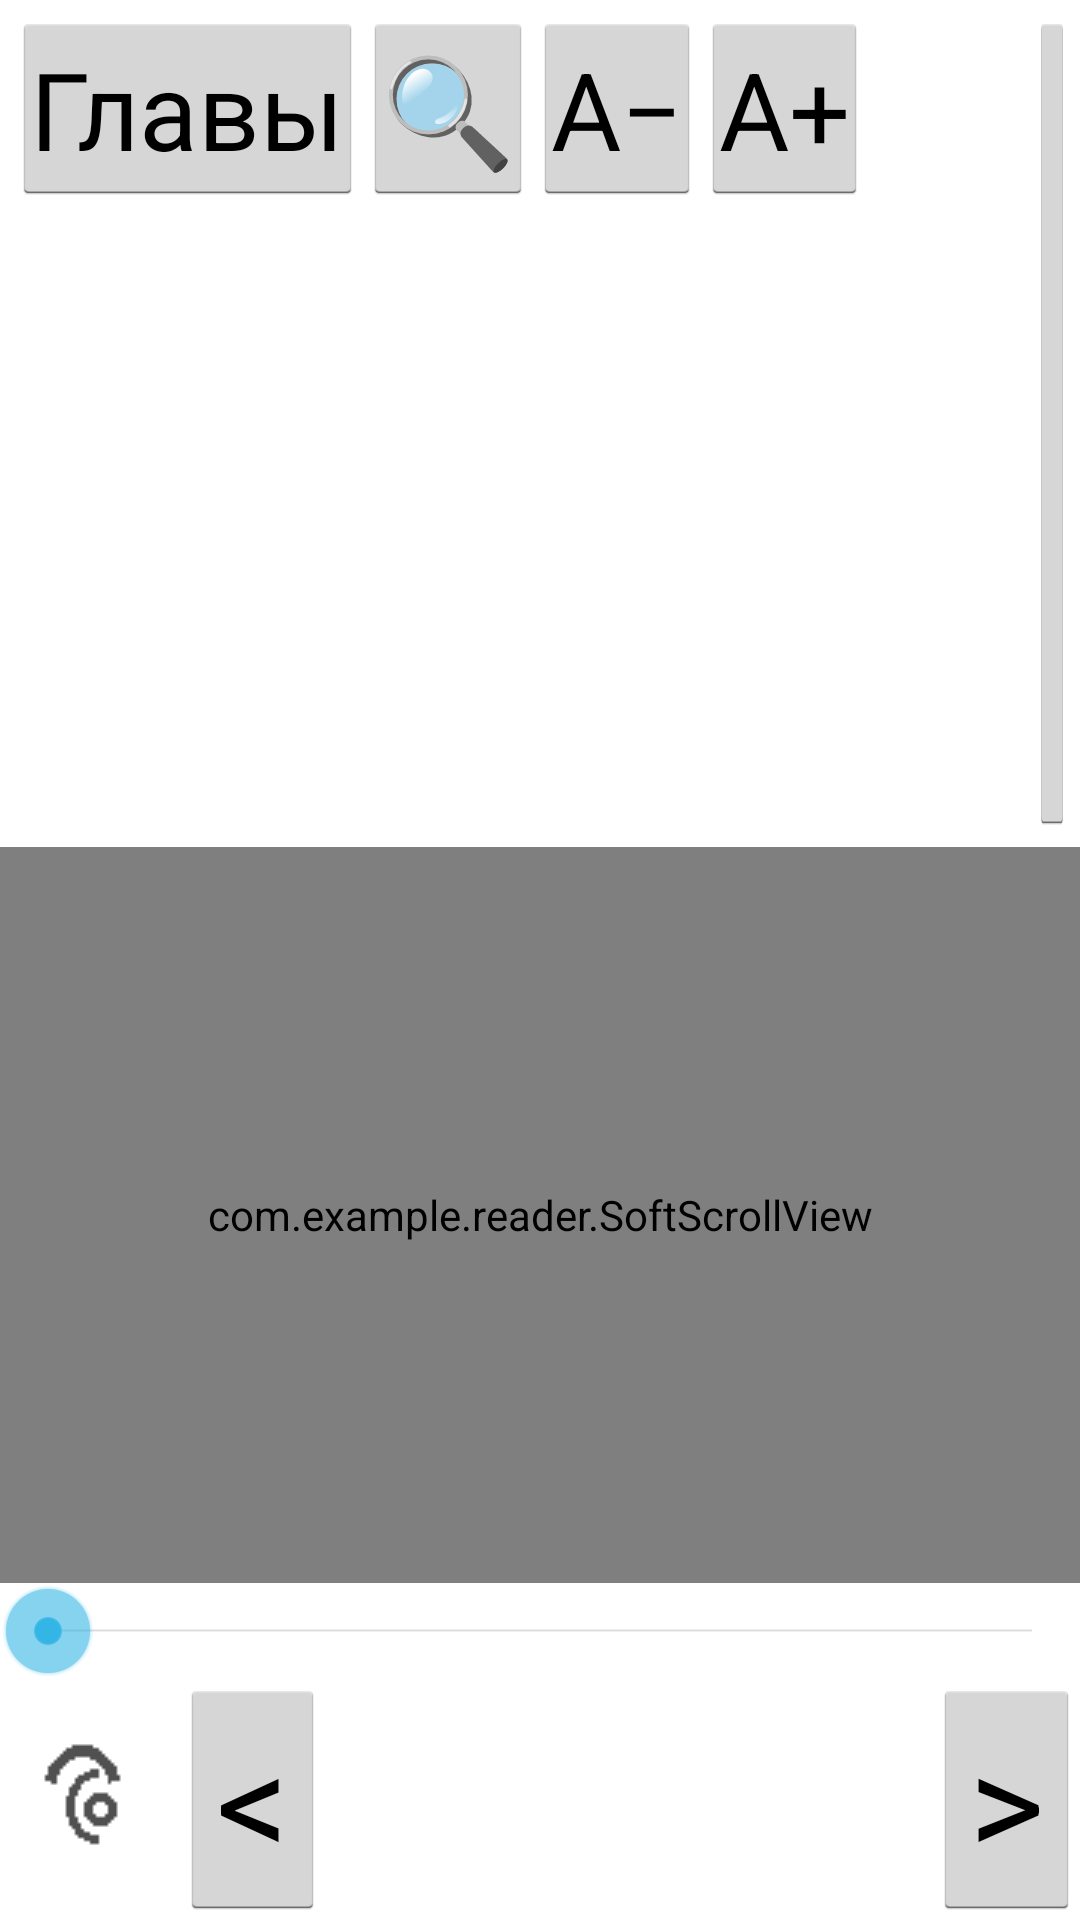

Screen size 1080 × 1920. Icon name, then its box in pixels as [x1=x1, y1=y1, x2=x2, y2=y2]:
Прослушивание книги: [x1=44, y1=1744, x2=121, y2=1845]
